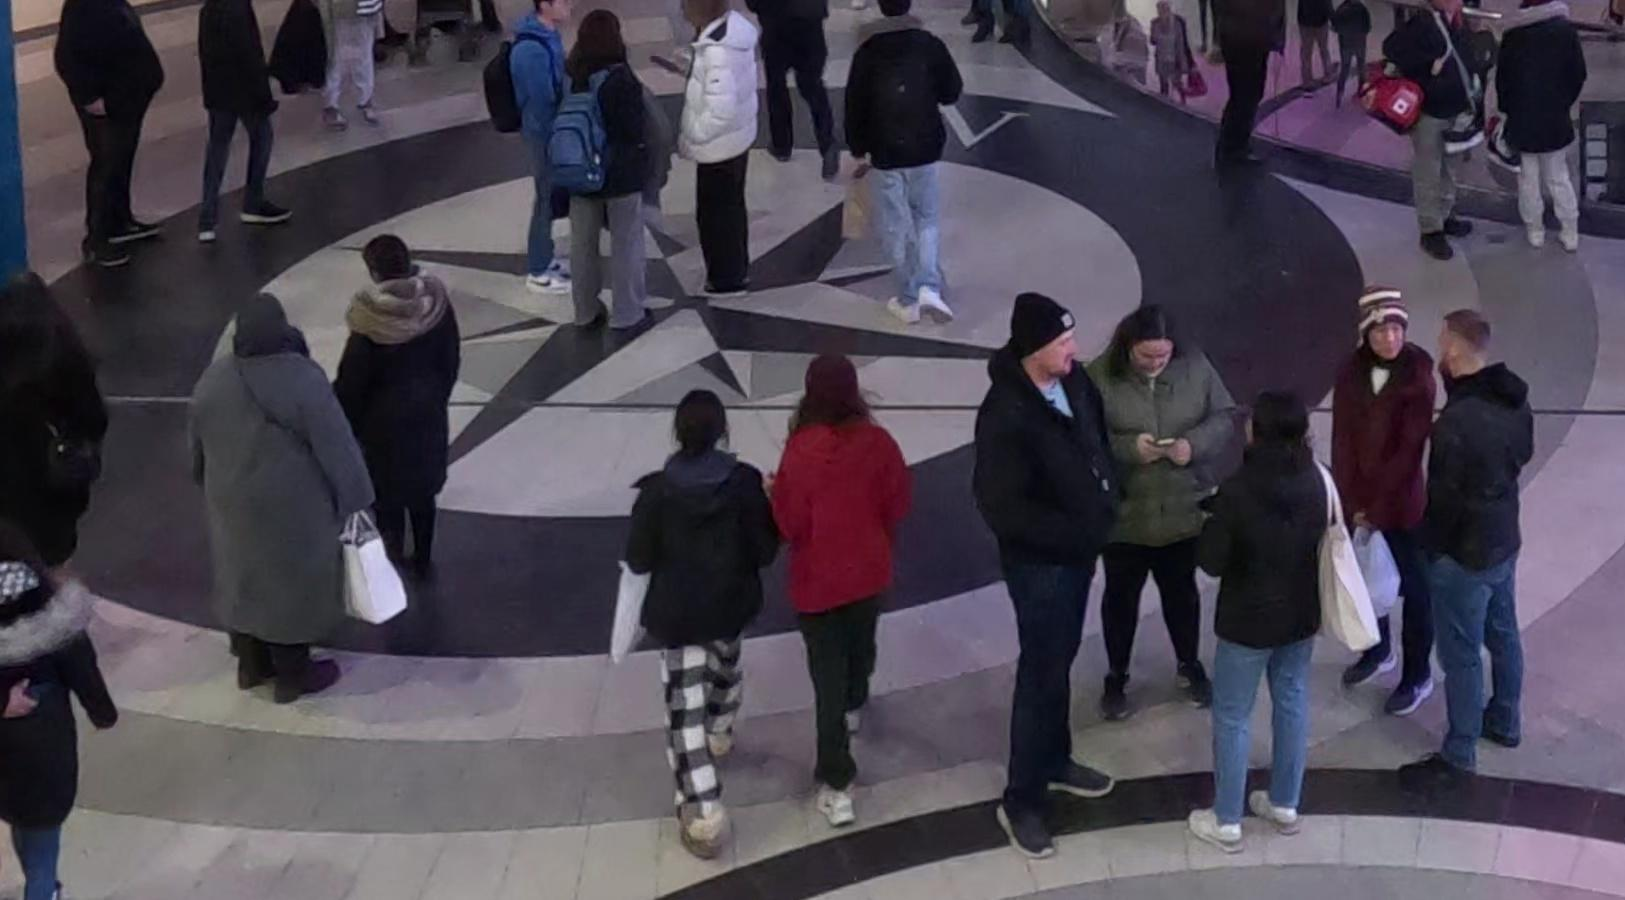person: (194, 265, 375, 707), (972, 293, 1116, 842), (764, 345, 912, 864), (1198, 385, 1345, 848), (1410, 324, 1539, 800), (1103, 293, 1240, 724), (329, 234, 465, 622), (1339, 301, 1451, 724), (845, 2, 975, 342), (626, 388, 774, 671), (561, 11, 671, 349), (1468, 7, 1614, 261), (663, 1, 777, 320), (60, 1, 172, 297), (178, 1, 302, 246)
